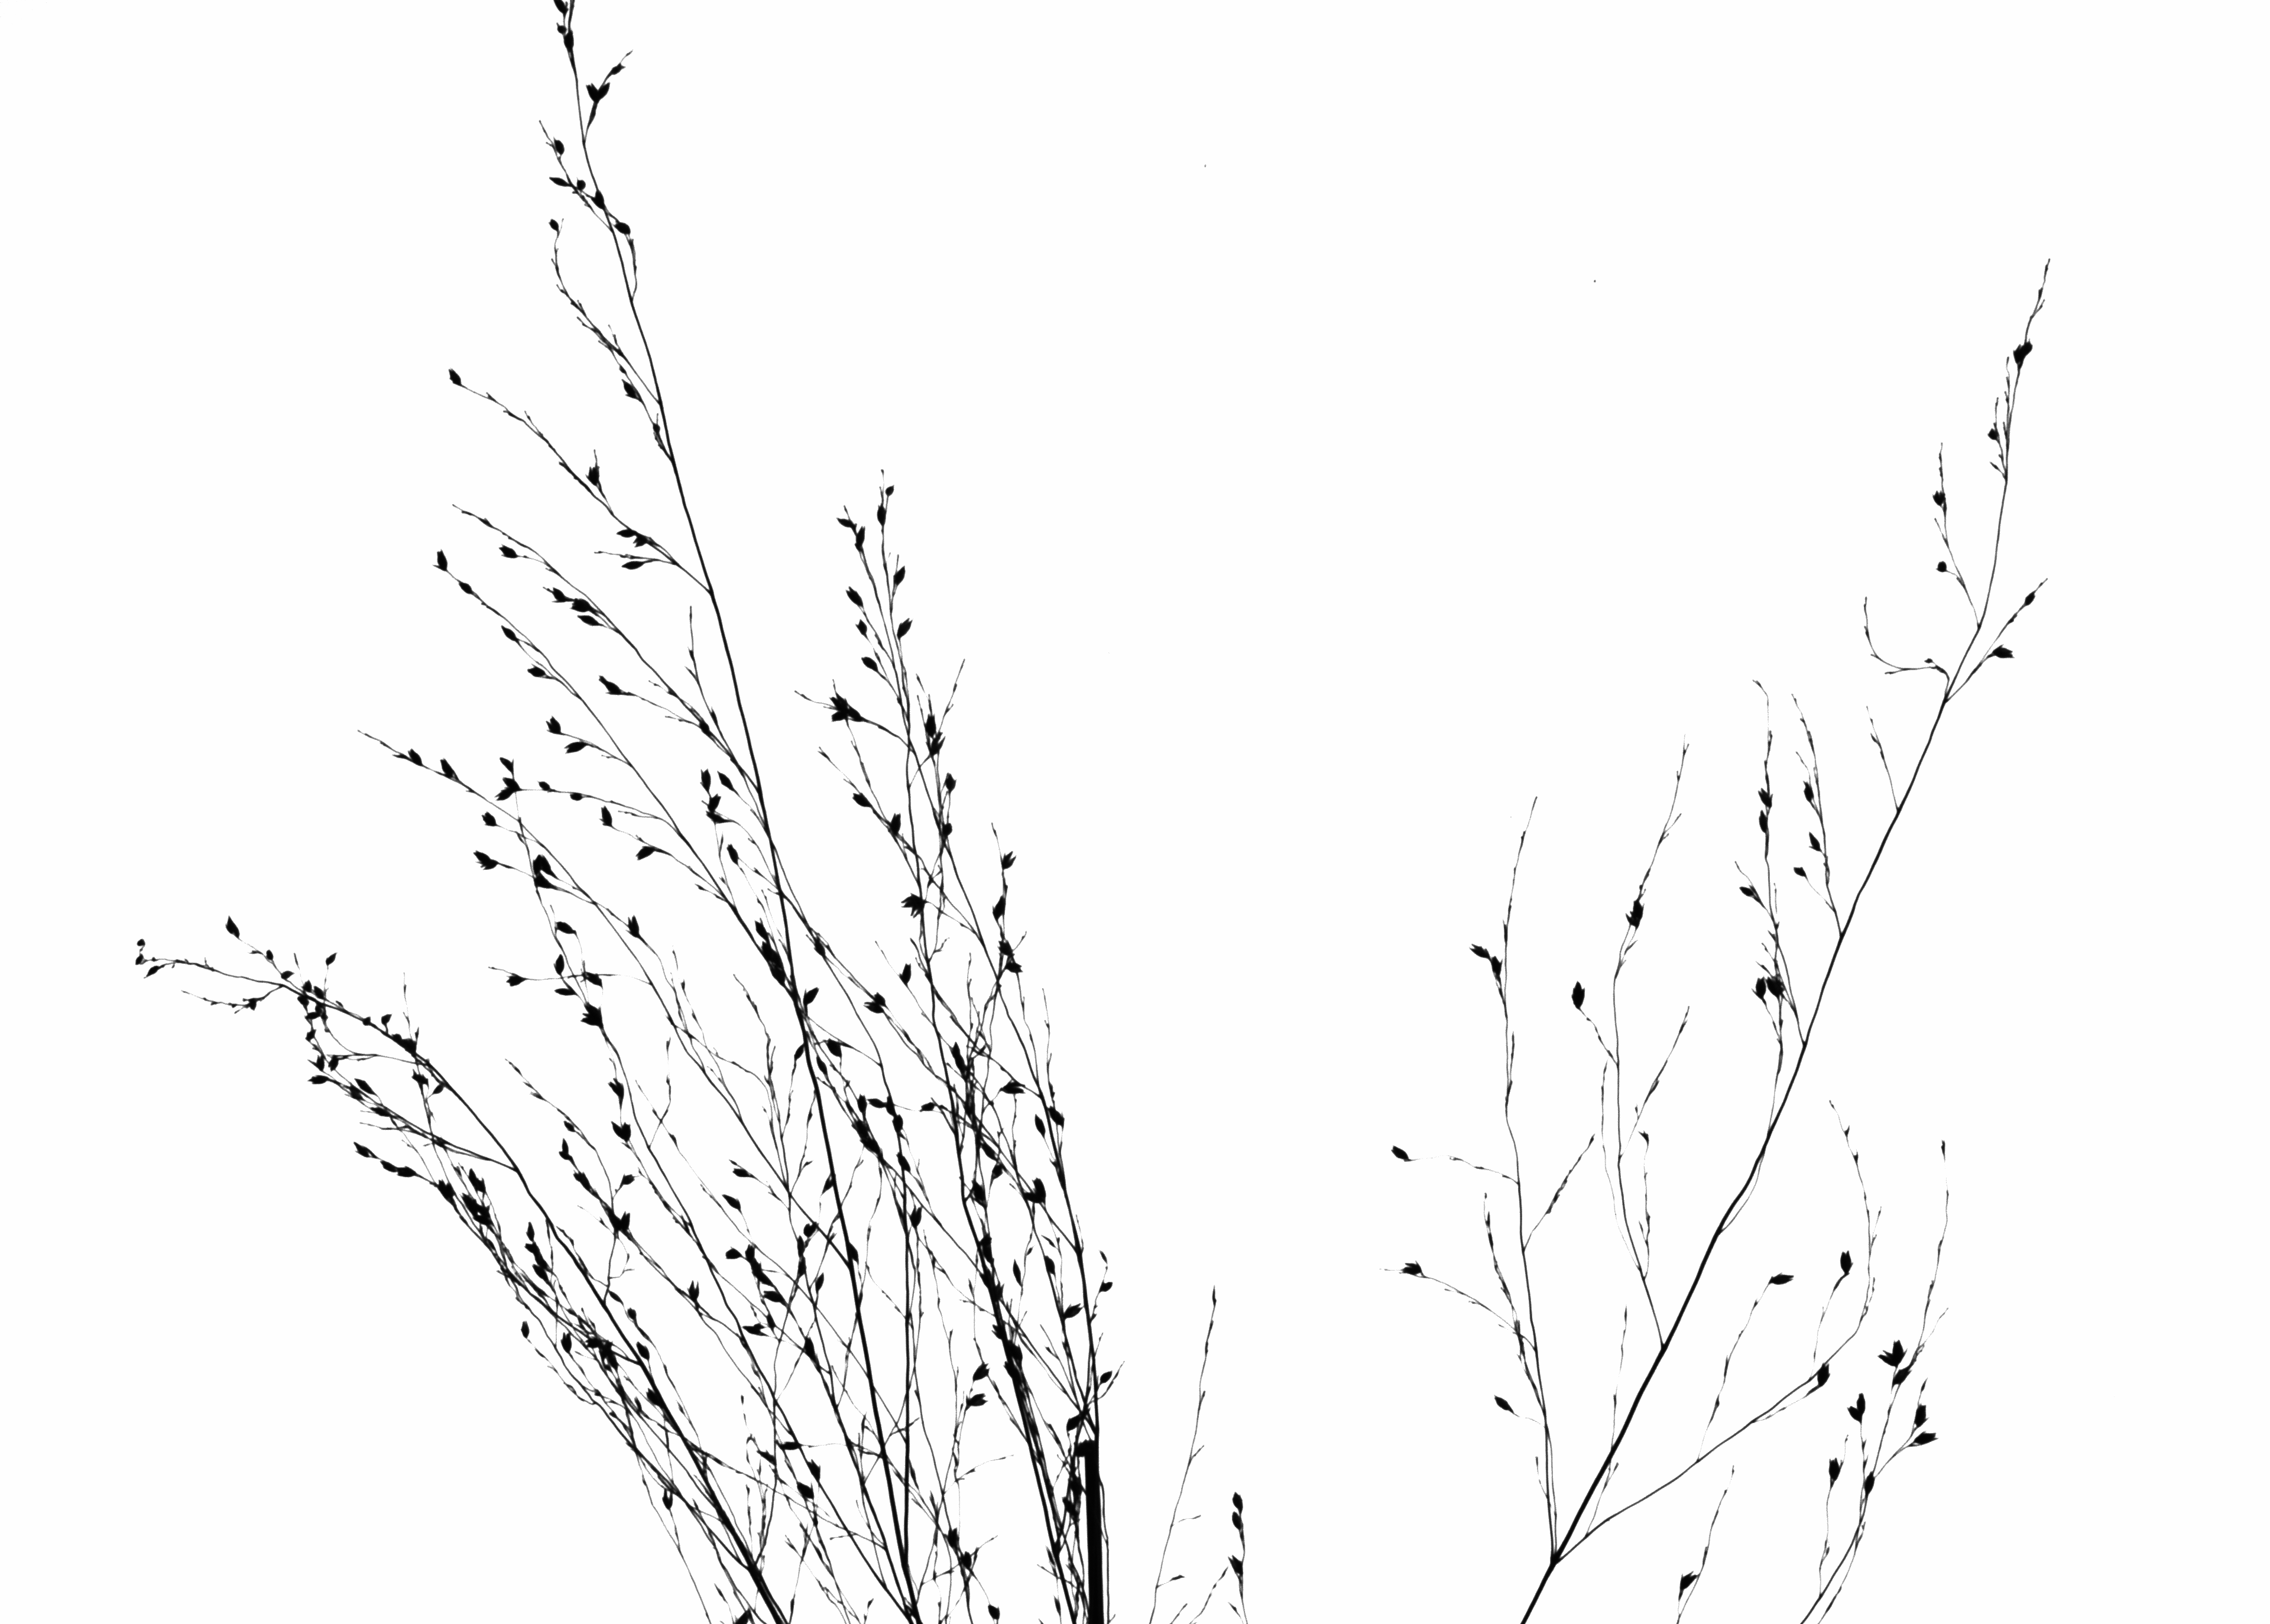seed: (594, 671, 626, 700), (1386, 1139, 1414, 1167), (580, 997, 607, 1026), (578, 965, 608, 991), (527, 868, 557, 895), (550, 914, 582, 939), (443, 360, 468, 392), (436, 754, 459, 787), (633, 840, 661, 866), (496, 620, 522, 647), (1398, 1255, 1422, 1283), (721, 838, 744, 868), (564, 735, 591, 759), (624, 907, 644, 940), (823, 1032, 846, 1060), (855, 652, 883, 675), (1815, 1359, 1836, 1388), (969, 1176, 988, 1207), (1860, 1468, 1880, 1499), (1910, 1429, 1941, 1448), (617, 376, 642, 401), (642, 1385, 666, 1410), (754, 1443, 779, 1468), (582, 460, 605, 487), (749, 917, 772, 944), (844, 584, 867, 610), (969, 1359, 992, 1385), (222, 910, 243, 939), (802, 982, 823, 1011), (1823, 1454, 1844, 1482), (1987, 640, 2015, 661), (900, 891, 930, 910), (802, 1329, 821, 1359), (807, 1455, 826, 1485), (999, 1079, 1029, 1098), (1030, 1172, 1050, 1202), (1227, 1508, 1247, 1538), (1911, 1397, 1931, 1427), (399, 1032, 422, 1056), (498, 540, 522, 562), (1491, 1392, 1514, 1417), (594, 803, 615, 830), (543, 712, 564, 738), (717, 1190, 744, 1211), (1679, 1566, 1700, 1592), (1769, 1267, 1795, 1288), (577, 612, 605, 631), (890, 562, 909, 591), (895, 613, 914, 642), (941, 768, 960, 796), (1039, 1251, 1059, 1280), (770, 958, 788, 988), (434, 545, 452, 575), (1466, 939, 1489, 961), (607, 1076, 628, 1100), (503, 968, 527, 990), (719, 1241, 744, 1262), (1226, 1554, 1247, 1578), (1927, 485, 1948, 510), (809, 933, 828, 960), (547, 172, 573, 192), (716, 766, 735, 793), (893, 1149, 913, 1176), (1064, 1410, 1083, 1436), (962, 1392, 988, 1411), (1062, 1492, 1078, 1524), (1570, 977, 1586, 1009), (930, 729, 948, 758), (471, 847, 492, 870), (830, 692, 851, 715), (828, 707, 851, 728), (573, 1169, 594, 1192), (1757, 786, 1778, 808), (549, 580, 568, 605), (631, 1338, 651, 1362), (1002, 1359, 1022, 1383), (1836, 1250, 1855, 1274), (728, 1164, 758, 1179), (1013, 1341, 1029, 1371), (979, 1230, 995, 1260), (552, 949, 570, 975), (582, 77, 600, 104), (656, 1487, 673, 1513), (1888, 1334, 1906, 1360), (1765, 972, 1783, 998), (1799, 777, 1816, 803), (436, 1176, 452, 1204), (144, 960, 165, 981), (535, 852, 556, 874), (612, 524, 640, 540), (888, 810, 904, 838), (899, 958, 914, 986), (1009, 1255, 1025, 1283), (1062, 1301, 1083, 1322), (353, 1076, 376, 1095), (524, 661, 547, 680), (608, 60, 631, 79), (851, 617, 870, 640), (849, 791, 872, 810), (1048, 1104, 1067, 1127), (610, 220, 635, 237), (760, 1288, 784, 1306), (557, 1329, 575, 1353), (1890, 1366, 1915, 1383), (550, 984, 580, 998), (993, 891, 1008, 921), (397, 1164, 424, 1179), (791, 1039, 807, 1065), (763, 1309, 779, 1336), (1632, 895, 1648, 921), (1757, 808, 1772, 835), (1808, 828, 1823, 854), (410, 1067, 431, 1086), (352, 1141, 371, 1162), (584, 1332, 605, 1352), (455, 578, 477, 598), (531, 1262, 550, 1283), (795, 1480, 814, 1501), (1004, 956, 1025, 975), (406, 745, 424, 768), (496, 754, 519, 772), (571, 598, 594, 615), (596, 83, 614, 105), (781, 1436, 804, 1454), (526, 1239, 543, 1262), (985, 1599, 1002, 1622), (1876, 1350, 1899, 1367), (563, 26, 577, 54), (925, 708, 939, 736), (793, 1229, 807, 1257), (992, 1153, 1006, 1181), (1032, 1109, 1046, 1137), (462, 1190, 478, 1214), (369, 1106, 394, 1121), (610, 1118, 626, 1142), (501, 775, 526, 791), (846, 1239, 862, 1264), (686, 1278, 702, 1302), (944, 1524, 960, 1548), (2020, 336, 2036, 360), (309, 997, 329, 1016), (480, 810, 499, 830), (703, 812, 730, 826), (795, 1255, 809, 1281), (1000, 849, 1018, 870), (1071, 1438, 1088, 1459), (1751, 975, 1765, 1002), (833, 515, 856, 531), (471, 1214, 496, 1229), (468, 1164, 480, 1192), (619, 559, 644, 573), (855, 524, 867, 552), (862, 1000, 886, 1014), (855, 1090, 869, 1114), (886, 1091, 899, 1120), (911, 1202, 923, 1230), (744, 1239, 758, 1264), (740, 1323, 765, 1338), (960, 1547, 974, 1571), (243, 995, 260, 1014), (324, 949, 341, 968), (872, 986, 890, 1005), (622, 1304, 642, 1322), (814, 1053, 830, 1074), (760, 940, 775, 961), (494, 786, 515, 801), (890, 1111, 906, 1132), (819, 1172, 835, 1193), (524, 1218, 540, 1239), (990, 1318, 1006, 1339), (700, 765, 712, 791), (814, 1267, 826, 1294), (1855, 1388, 1867, 1415), (709, 789, 723, 812), (519, 1316, 533, 1339), (1069, 1475, 1083, 1497), (1231, 1489, 1245, 1512), (431, 1079, 448, 1097), (380, 1156, 397, 1174), (561, 1116, 578, 1134), (633, 533, 651, 550), (869, 1091, 886, 1109), (997, 939, 1015, 956), (1099, 1367, 1117, 1385), (804, 1218, 819, 1237), (1739, 884, 1758, 900), (1790, 865, 1809, 881), (2022, 587, 2038, 606), (1932, 557, 1948, 576), (622, 1118, 635, 1142), (876, 504, 888, 529), (1050, 1594, 1064, 1615), (262, 942, 276, 963), (552, 135, 566, 156), (607, 1346, 619, 1369), (594, 186, 607, 209), (294, 990, 309, 1007), (302, 1026, 320, 1042), (570, 787, 586, 805), (536, 777, 552, 794), (1099, 1278, 1115, 1295), (1844, 1403, 1860, 1420), (1491, 953, 1502, 979), (348, 1084, 362, 1104), (380, 1007, 394, 1026), (1623, 914, 1642, 928), (1985, 424, 1999, 443), (621, 1207, 631, 1232), (313, 984, 329, 1000), (281, 965, 297, 981), (545, 216, 561, 232), (621, 1171, 637, 1186), (573, 176, 587, 193), (884, 480, 899, 497), (304, 1074, 331, 1083), (302, 1011, 324, 1021), (132, 933, 146, 949), (315, 1053, 327, 1070), (329, 1053, 341, 1070), (561, 1135, 570, 1158), (2012, 341, 2020, 364), (556, 19, 568, 35), (608, 1290, 624, 1302), (302, 975, 313, 993), (134, 951, 144, 968), (942, 821, 951, 842), (556, 1151, 573, 1162), (921, 1100, 935, 1113), (364, 1012, 373, 1026)
